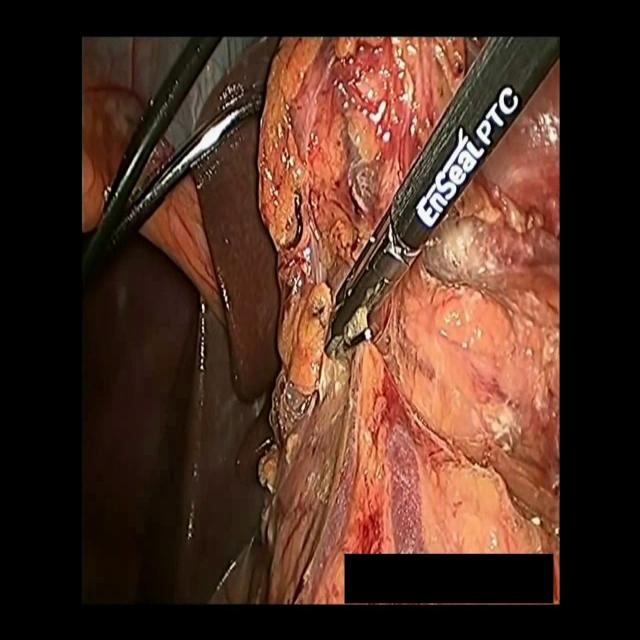surgical-area: (81, 36, 561, 606), (81, 36, 190, 252)
surgical-tool: (327, 34, 561, 352), (81, 36, 263, 292)
